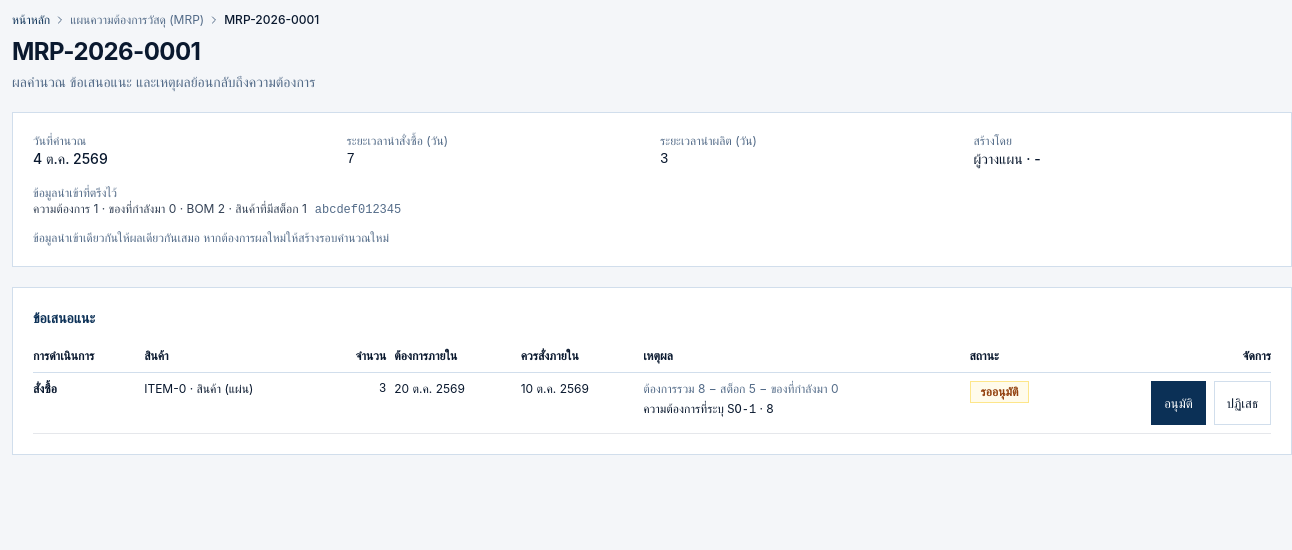
Test: MrpRunDetail › shows the translated error for a self-approval attempt
Click the button "อนุมัติ" at (1178, 403), box [1151,381,1206,425]
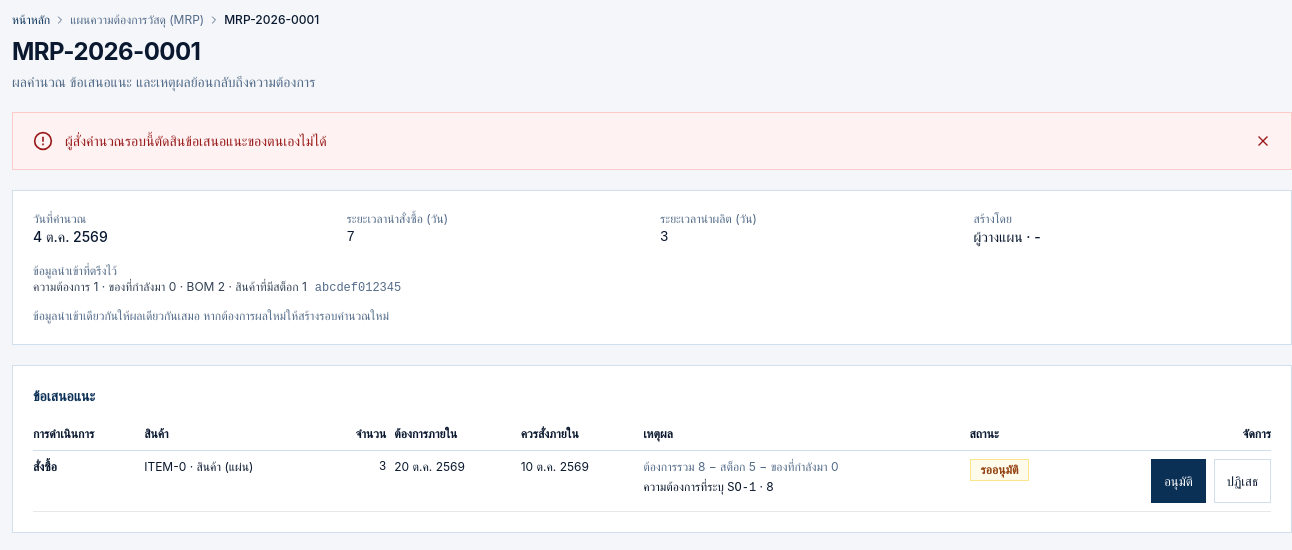
Now the text "ผู้สั่งคำนวณรอบนี้ตัดสินข้อเสนอแนะของตนเองไม่ได้" is shown, box [65,132,327,149]
